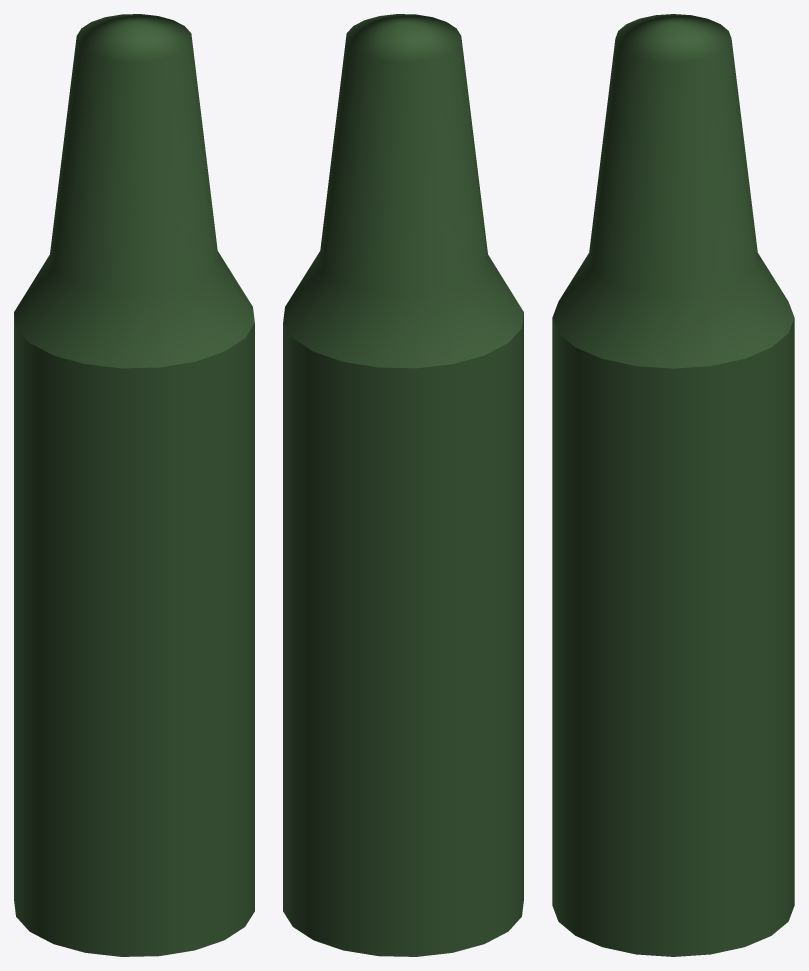
Rendered from Bottle.fbx.
The picture shows the model from 3 angles, left to right: view 1: azimuth 30°, elevation 25°; view 2: azimuth 150°, elevation 25°; view 3: azimuth 270°, elevation 25°; orthographic projection.
Parts seen in each view (by area): view 1: pCylinder1; view 2: pCylinder1; view 3: pCylinder1.
Part boxes in pixels (x1,y1,x2,y2): pCylinder1: (14, 14, 254, 956); pCylinder1: (283, 14, 523, 956); pCylinder1: (552, 14, 794, 956).
Size of the model in its own units: 2.58 by 10.38 by 2.58.
